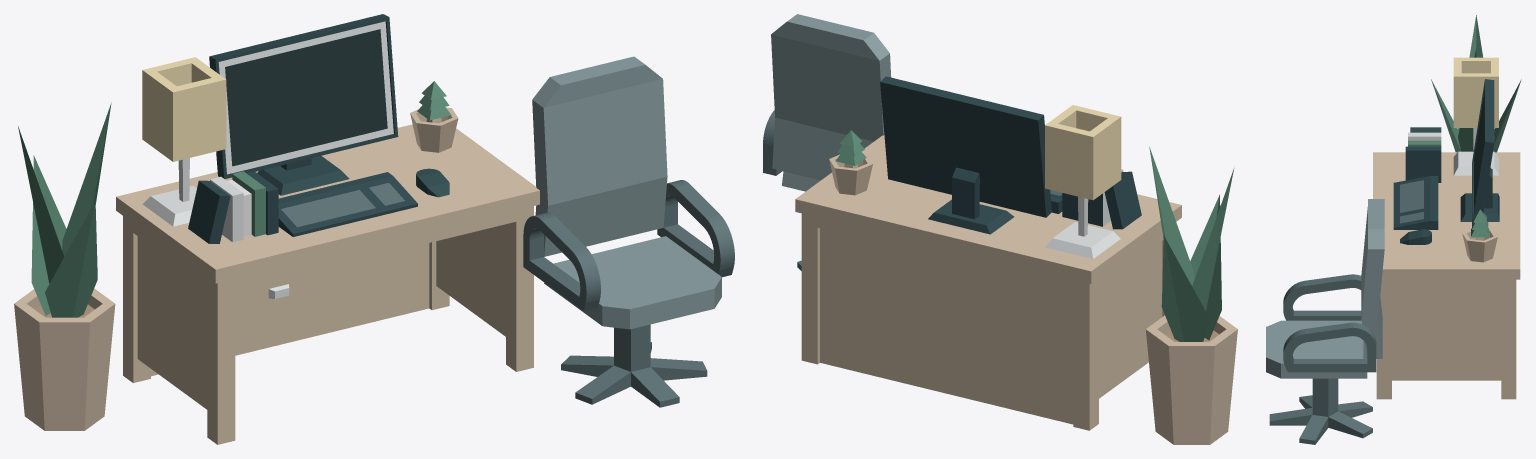
Rendered from desk.glb.
The picture shows the model from 3 angles, left to right: view 1: azimuth 30°, elevation 25°; view 2: azimuth 150°, elevation 25°; view 3: azimuth 270°, elevation 25°; orthographic projection. The views are drawn at different scales.
Visible parts, largest first — view 1: desk, chair, bigplant, screen_display, lamp, screen, keyboard, books, plant, mouse; view 2: desk, screen, bigplant, chair, lamp, books, plant; view 3: desk, chair, lamp, screen, keyboard, books, bigplant, plant, screen_display, mouse.
Boxes of the visible parts, bbox=[...] form: desk: bbox=[116, 124, 539, 444]; chair: bbox=[523, 56, 734, 407]; bigplant: bbox=[14, 102, 115, 430]; screen_display: bbox=[225, 29, 387, 166]; lamp: bbox=[142, 57, 226, 226]; screen: bbox=[209, 14, 398, 195]; keyboard: bbox=[278, 172, 417, 236]; books: bbox=[188, 171, 278, 243]; plant: bbox=[410, 81, 458, 152]; mouse: bbox=[416, 168, 449, 197]; desk: bbox=[795, 135, 1181, 430]; screen: bbox=[880, 76, 1051, 234]; bigplant: bbox=[1146, 146, 1237, 444]; chair: bbox=[763, 14, 891, 270]; lamp: bbox=[1045, 105, 1121, 258]; books: bbox=[1062, 169, 1141, 229]; plant: bbox=[829, 130, 872, 195]; desk: bbox=[1373, 152, 1520, 399]; chair: bbox=[1266, 199, 1384, 444]; lamp: bbox=[1453, 57, 1498, 175]; screen: bbox=[1460, 79, 1499, 222]; keyboard: bbox=[1393, 176, 1438, 229]; books: bbox=[1405, 127, 1441, 182]; bigplant: bbox=[1431, 15, 1521, 152]; plant: bbox=[1462, 209, 1497, 262]; screen_display: bbox=[1474, 91, 1484, 210]; mouse: bbox=[1400, 229, 1431, 244].
Bounding box in the file's own units: 1.32 × 0.6783 × 0.6779.
